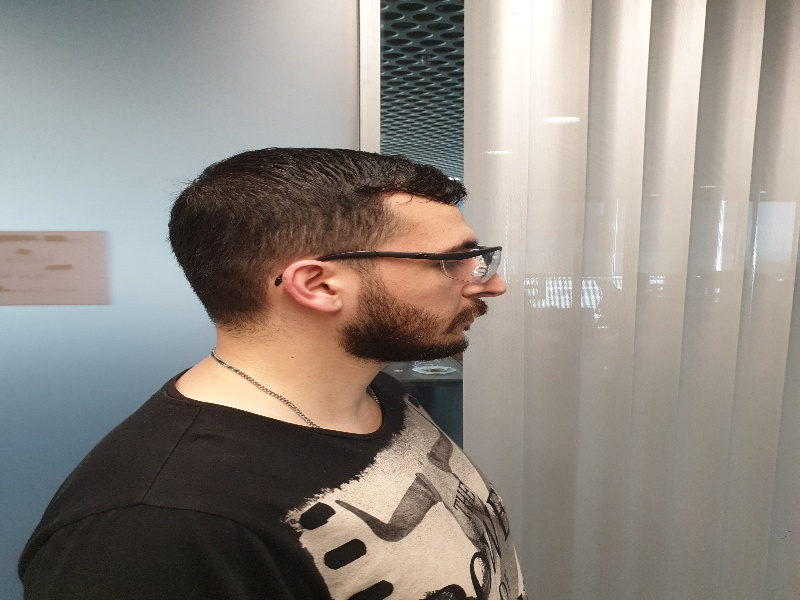Gozluk: (330, 244, 505, 283)
